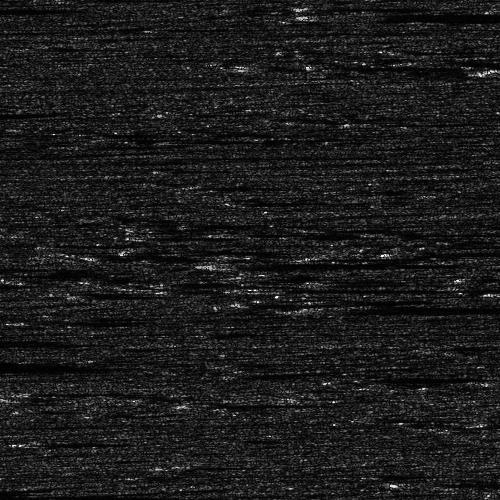shadow: (0, 336, 73, 345), (0, 4, 56, 13), (0, 145, 53, 150), (0, 109, 33, 114)
